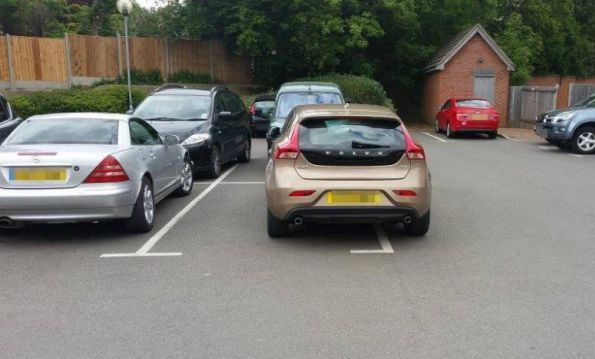car: (261, 103, 433, 238), (1, 112, 193, 231), (132, 86, 253, 174), (268, 81, 345, 143), (429, 97, 501, 138)
